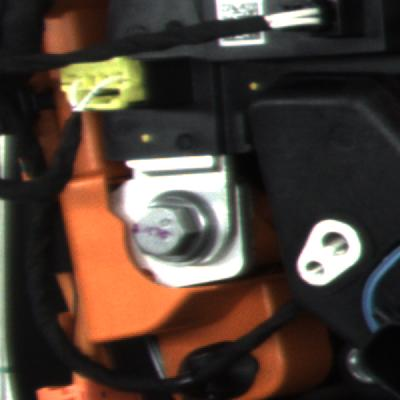nut_b: (120, 175, 234, 269)
